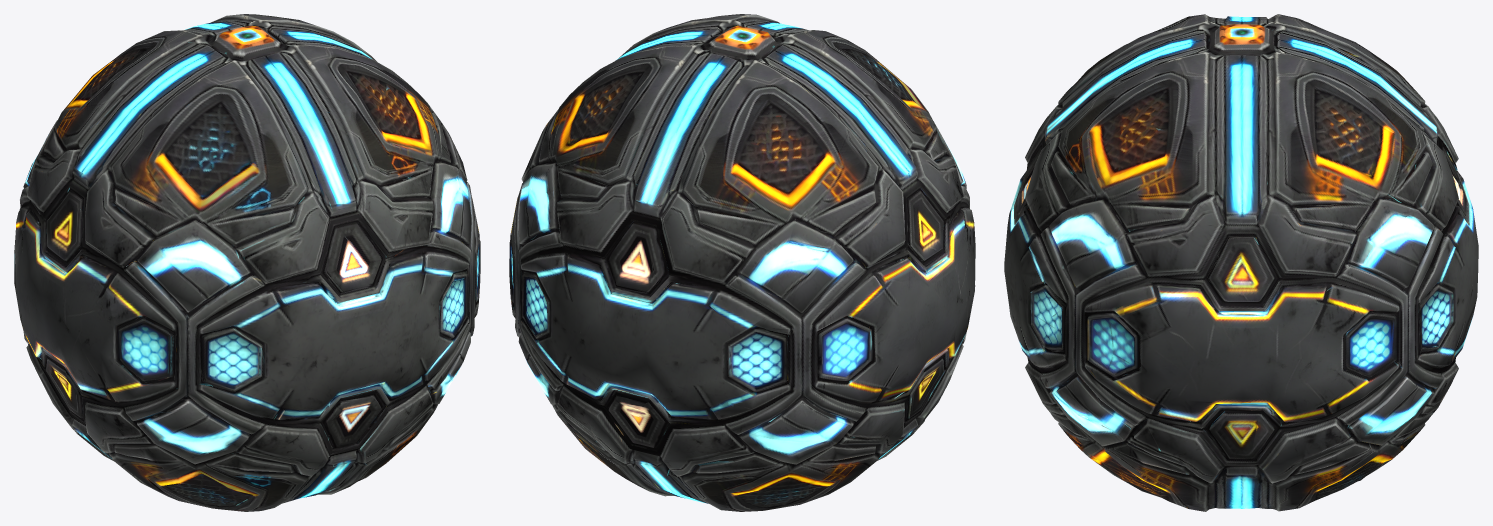
File: ball_meshy.glb
3 views of the same model, side by side, from view 1: azimuth 30°, elevation 25°; view 2: azimuth 150°, elevation 25°; view 3: azimuth 270°, elevation 25° (orthographic).
Visible parts, largest first — view 1: Mesh1.0; view 2: Mesh1.0; view 3: Mesh1.0.
Part boxes in pixels (left/top/right/bottom): Mesh1.0: left=14, top=14, right=480, bottom=511; Mesh1.0: left=509, top=14, right=975, bottom=511; Mesh1.0: left=1004, top=14, right=1478, bottom=511.
Size of the model in its own units: 1.7 by 1.83 by 1.7.
Materials: 1 (1 with a texture image).
